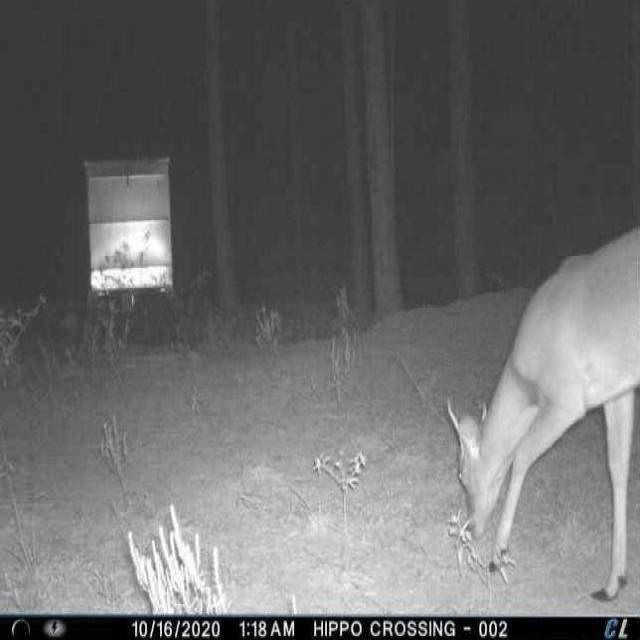deer: (442, 220, 639, 608)
